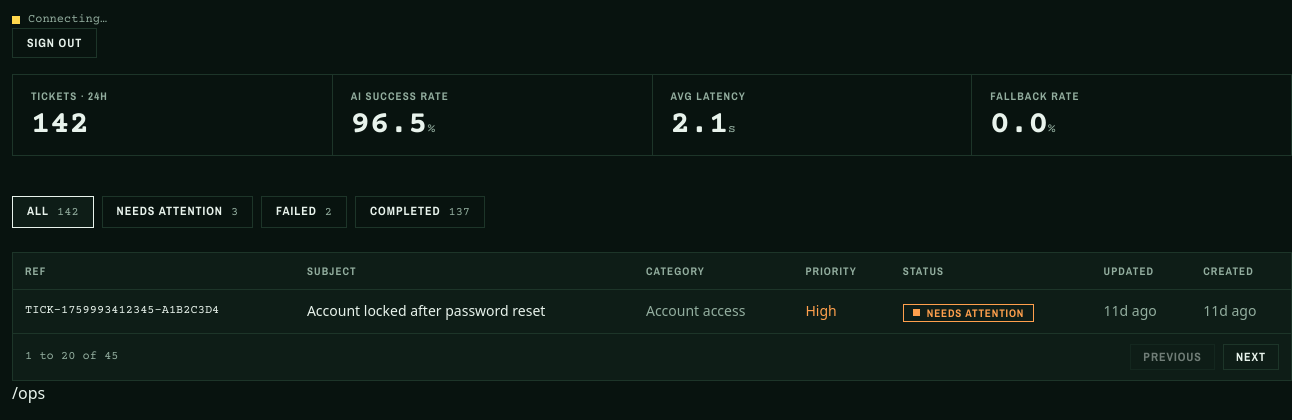
Test: the ticket table › pages, and shows where you are
Check: the text "1 to 20 of 45" is shown, box [25,348,118,364]
Check: the button "Previous" is disabled, box [1130,344,1215,370]
Click the button "Next": (1251, 356) [1223,344,1279,370]
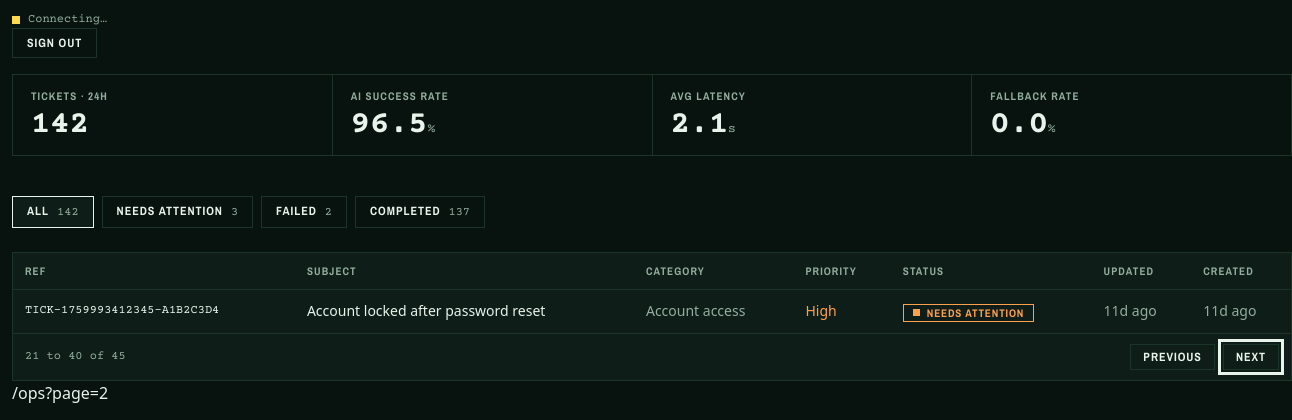
Check: the text "21 to 40 of 45" is shown, box [25,348,126,364]
